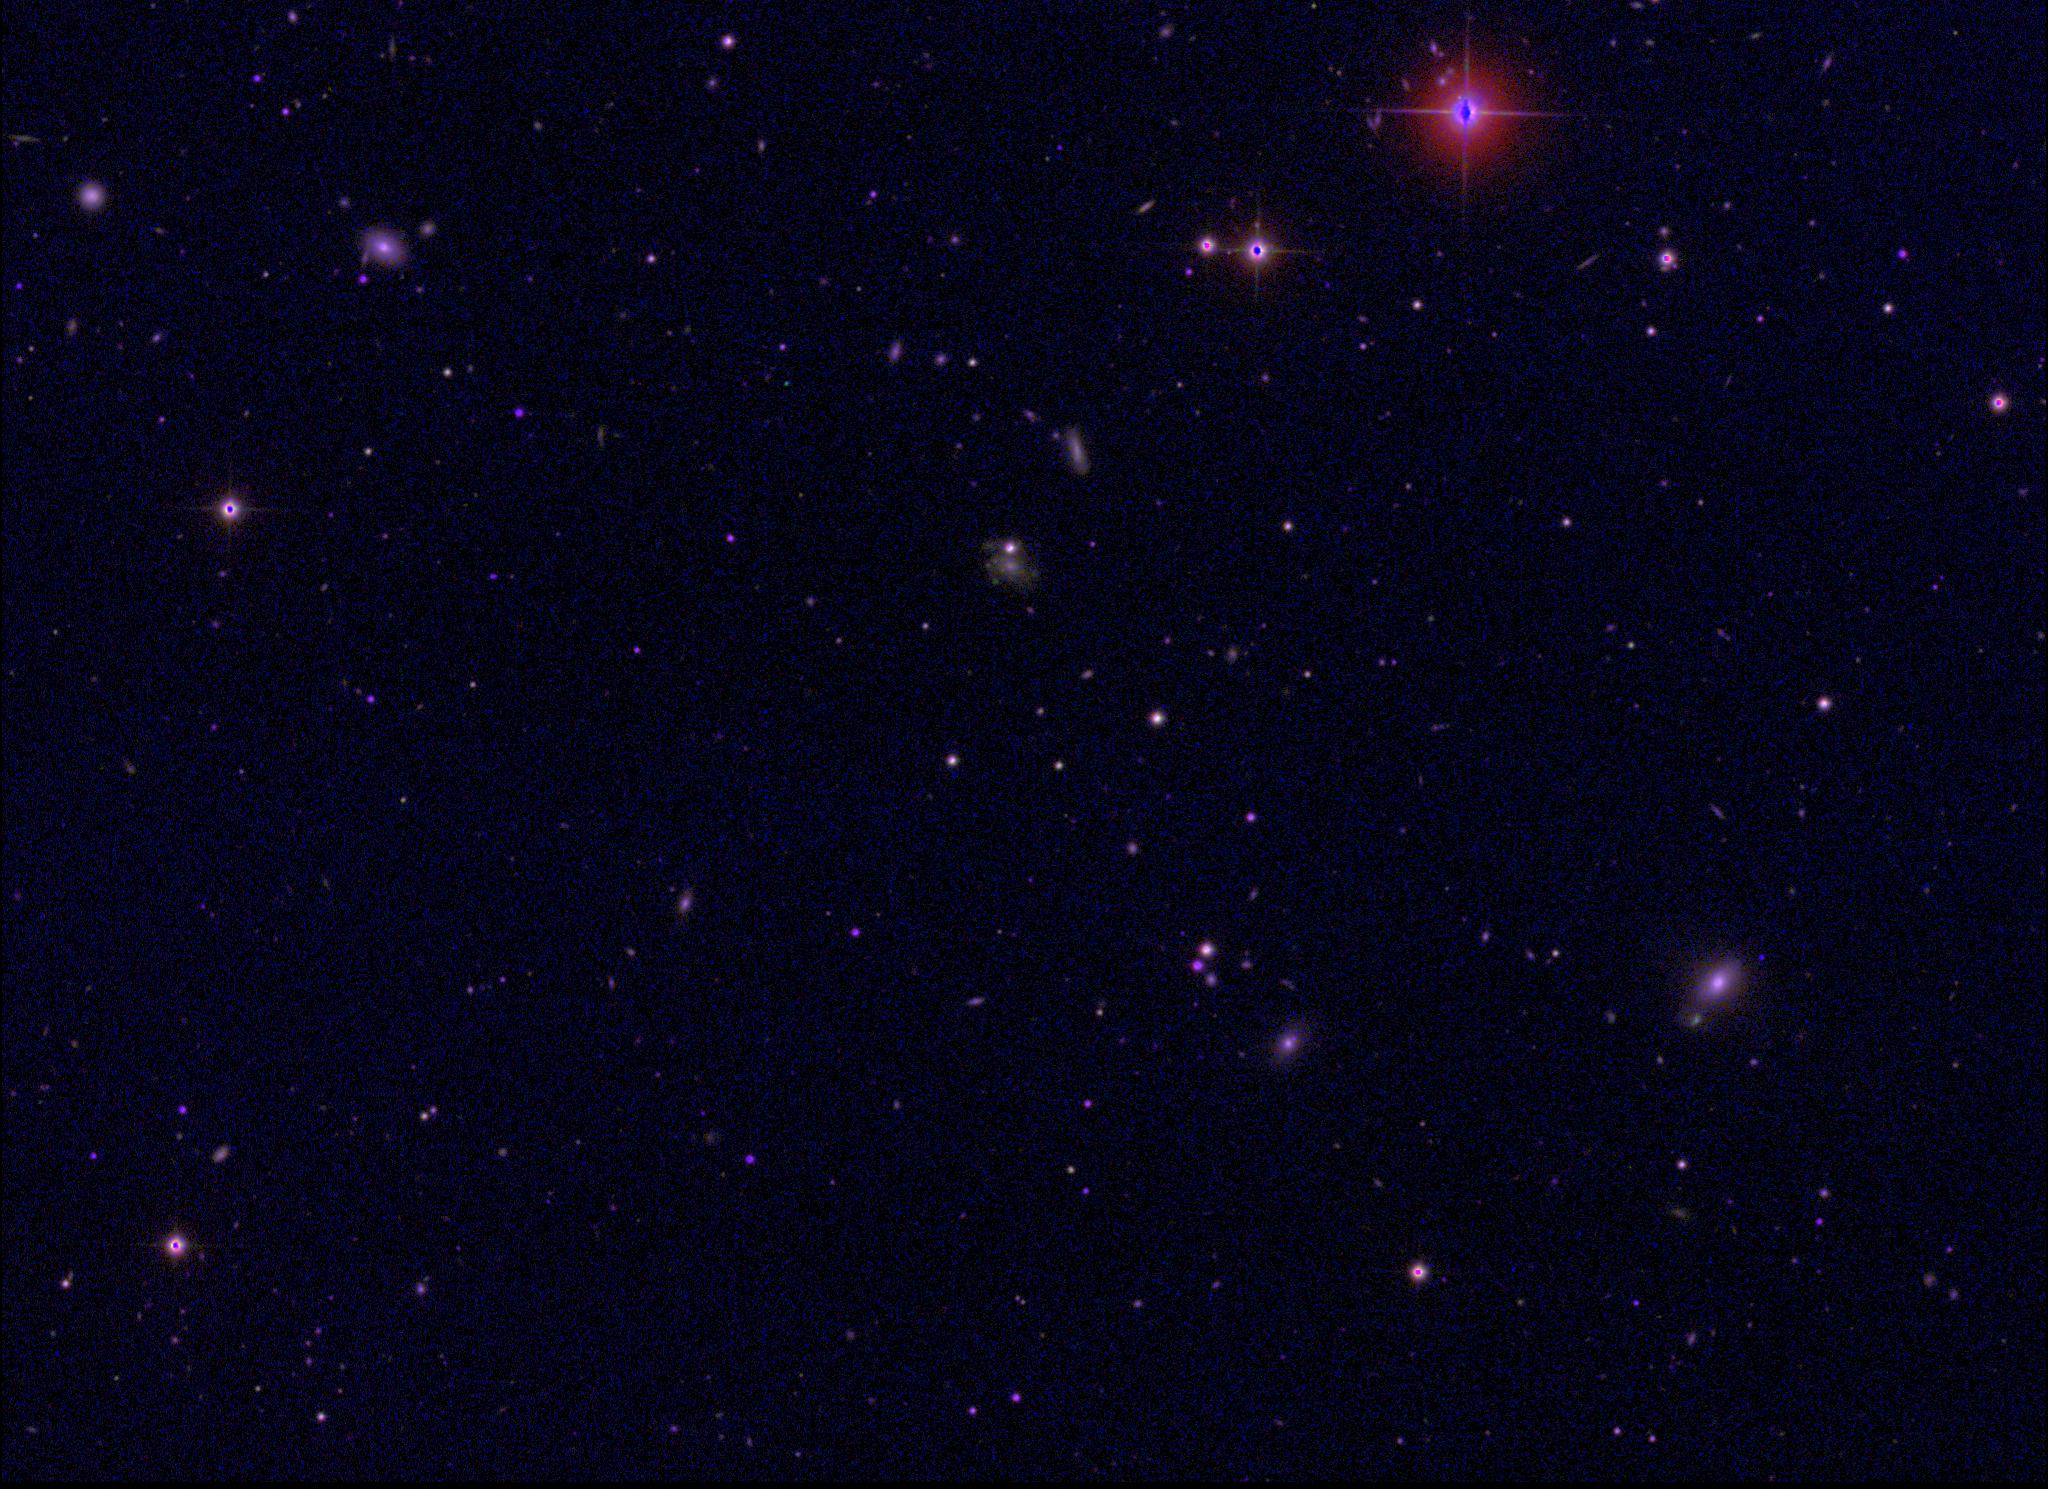L: (1755, 948, 1770, 962)
